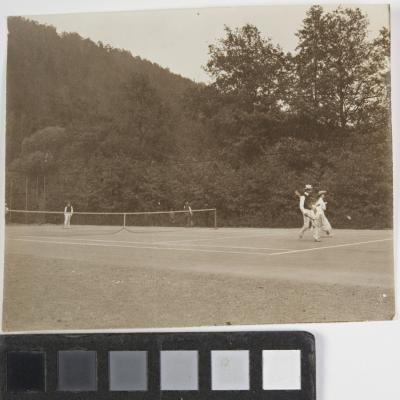photos_negatives: (14, 16, 393, 337)
